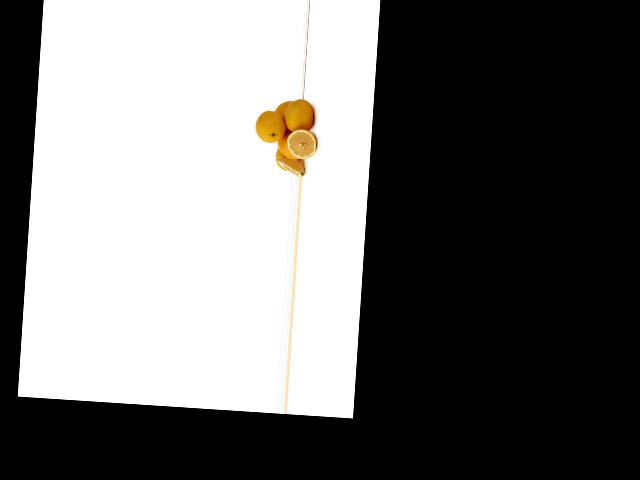lemon: (278, 98, 317, 135)
